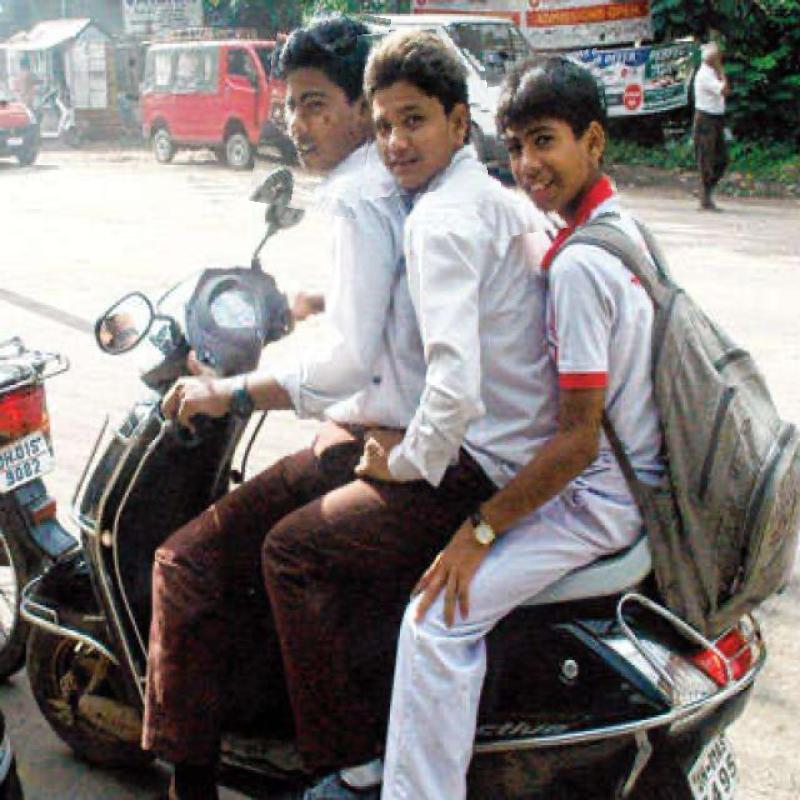nohelmet: (257, 4, 383, 215), (490, 52, 616, 233), (361, 26, 485, 196)
